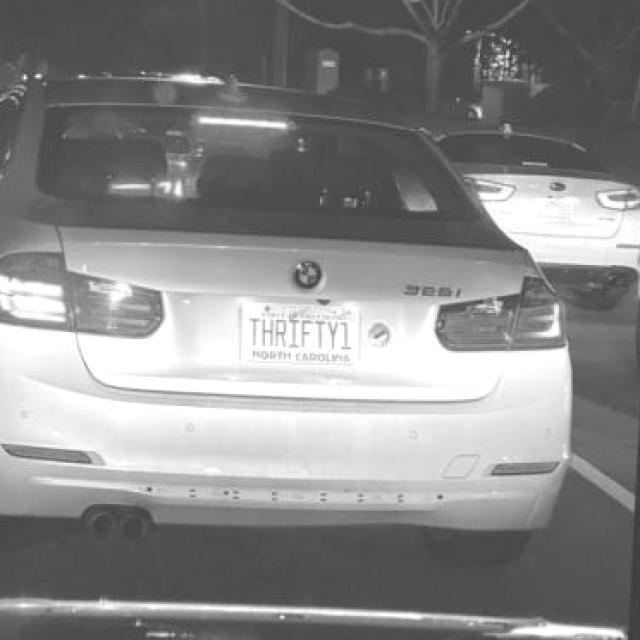licenseplate: (236, 299, 361, 369)
